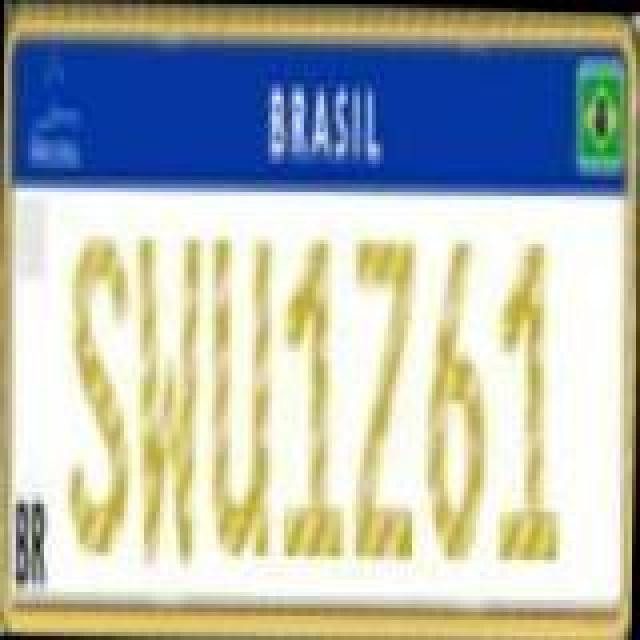1: (278, 228, 354, 564), (494, 234, 570, 562)
6: (420, 226, 492, 558)
S: (62, 232, 138, 564)
U: (206, 230, 282, 562)
W: (130, 230, 206, 570)
Z: (346, 232, 422, 564)
